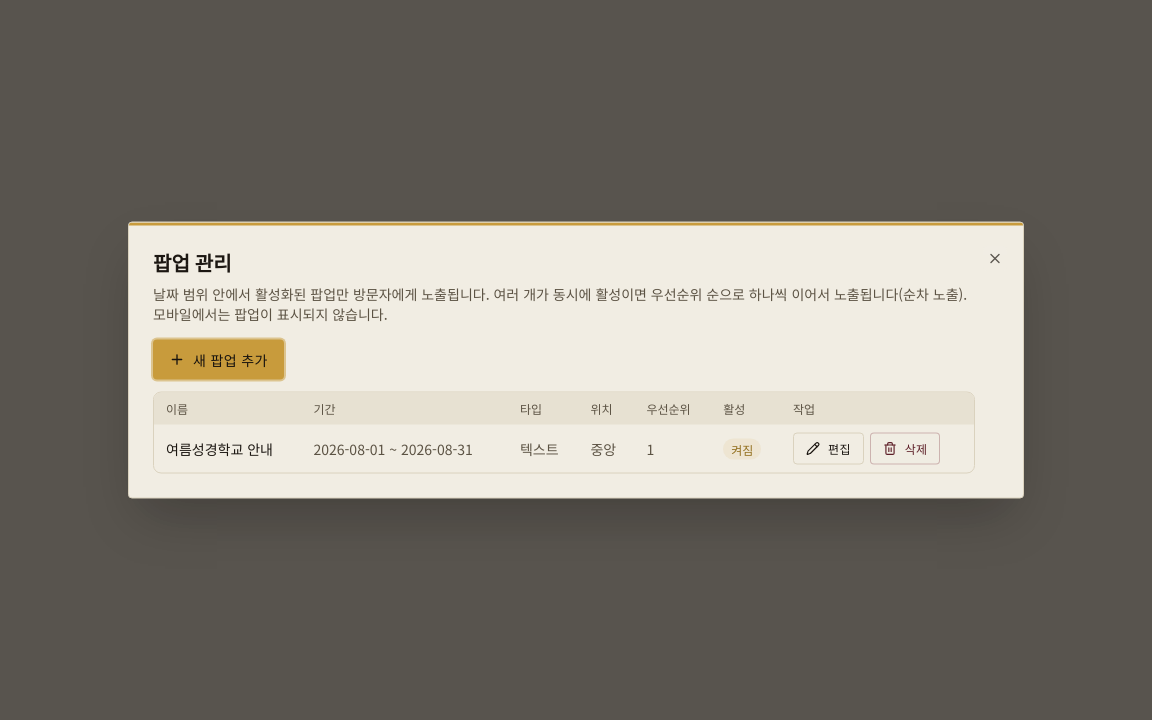
Scenario: PopupManageModal › opens the editor dialog for the clicked popup
The width and height of the screenshot is (1152, 720).
Expected: the text "여름성경학교 안내" is shown, [154,424,301,472]
Click the button "편집": (828, 448) [793,432,864,464]
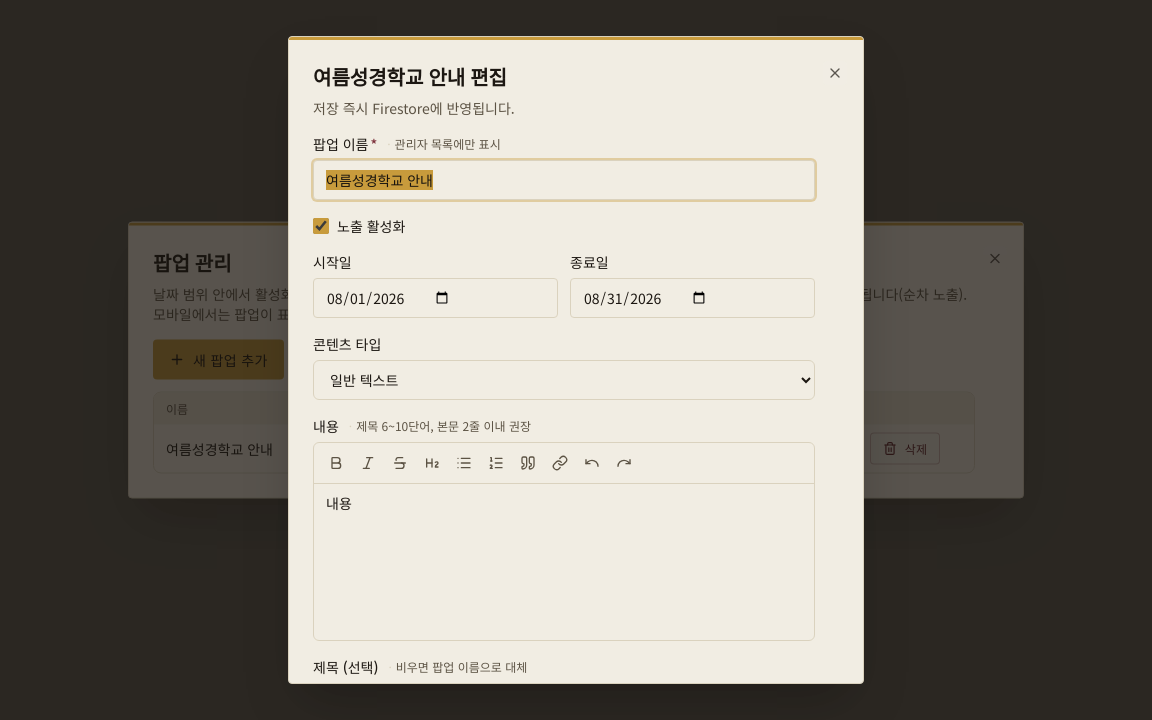
Expected: the field labelled "팝업 이름*" holds "여름성경학교 안내", [313,160,815,200]
